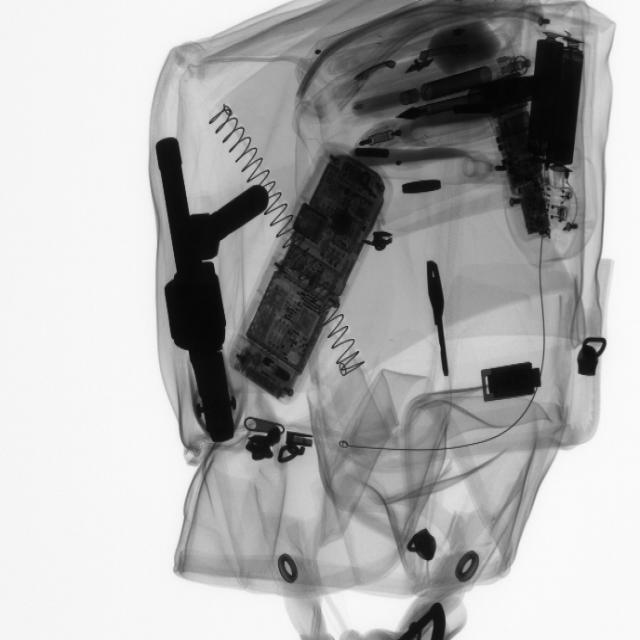GUN: (155, 139, 243, 451)
